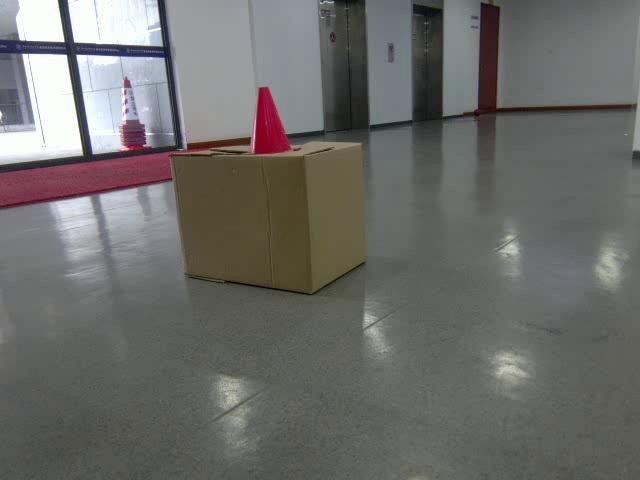red_barrel: (241, 86, 301, 156)
